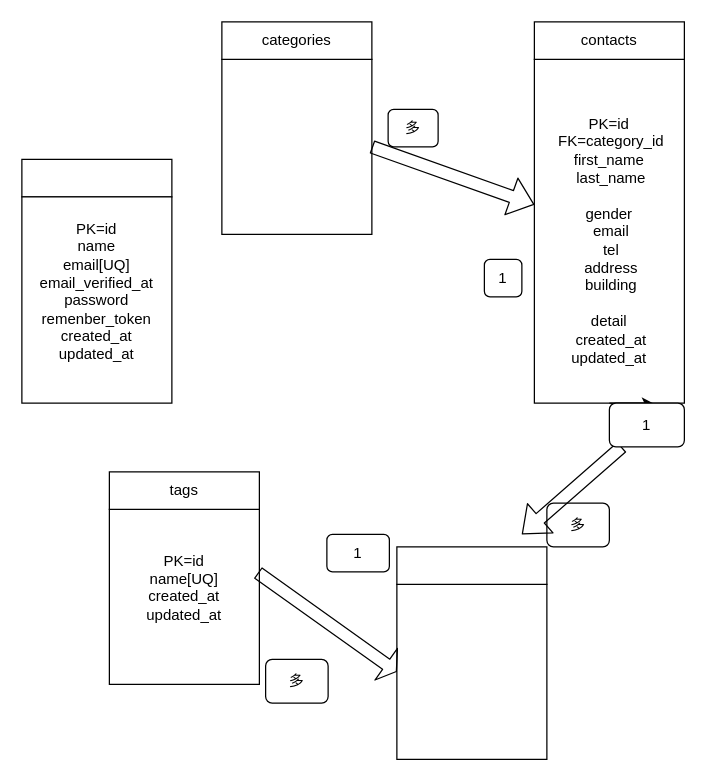
Image size: 706x781. Some labels were removed from this diagram. Each missing label, with the box of its shape:
contact_tag: (396, 546, 547, 584)
PK=id content created_at updated_at: (221, 58, 372, 234)
PK=id FK=contact_id FK=tag_id created_at updated_at UQ=(contact_id, tag_id): (396, 583, 547, 759)
users: (21, 158, 172, 197)
